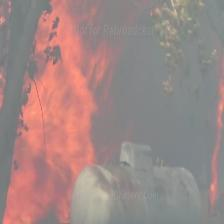fire: (0, 0, 136, 224)
